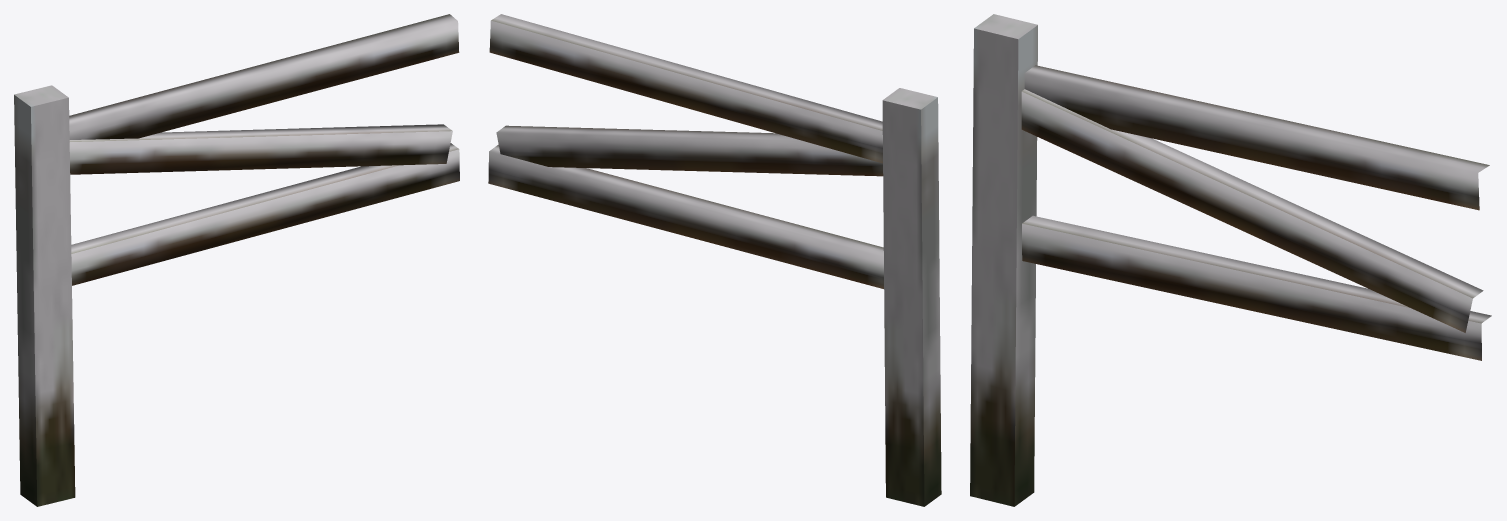
File: general_obj_fence05.glb
3 views of the same model, side by side, from view 1: azimuth 30°, elevation 25°; view 2: azimuth 150°, elevation 25°; view 3: azimuth 330°, elevation 25° (orthographic). The views are drawn at different scales.
Visible parts, largest first — view 1: Sphere01; view 2: Sphere01; view 3: Sphere01.
Boxes of the visible parts, bbox=[...] form: Sphere01: bbox=[14, 14, 459, 506]; Sphere01: bbox=[488, 14, 941, 506]; Sphere01: bbox=[970, 14, 1491, 506].
Bounding box in the file's own units: 2.44 × 2.14 × 0.213.
Materials: 1 (1 with a texture image).
